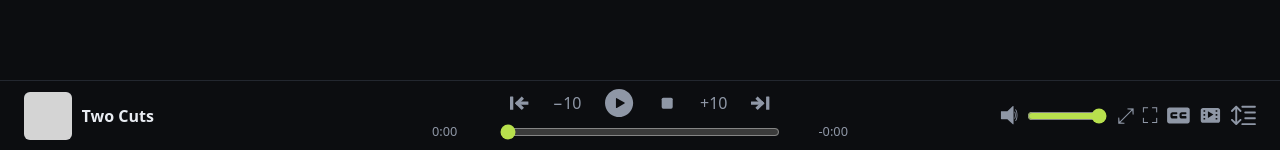
Test: NowPlayingBar — Video menu › surfaces a 503 on a video switch (not silently dropped)
Click the button with test id "now-playing-video".
click(1211, 116)  # box [1198,103,1223,128]
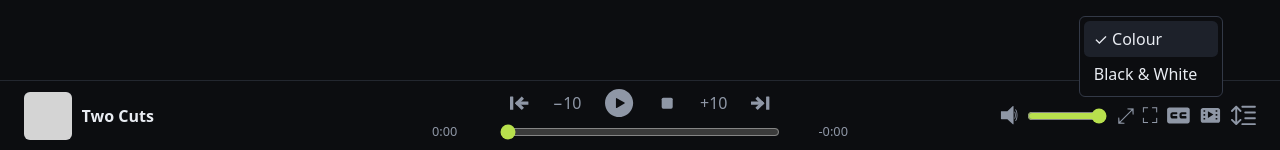
Click the menu item "Black & White".
click(1151, 74)  # box [1084,56,1218,92]
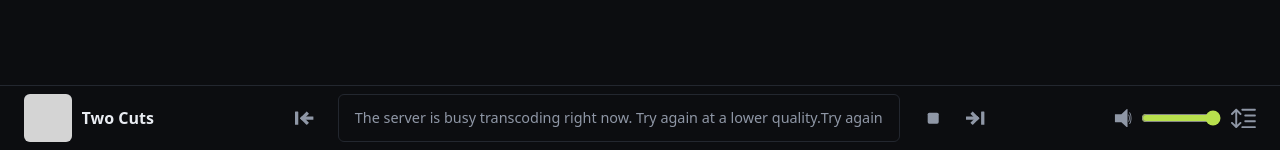
Expected: the element with test id "player-busy" is shown, [338,94,900,142]
Expected: the button with test id "player-busy-retry" is shown, [821,107,883,129]
